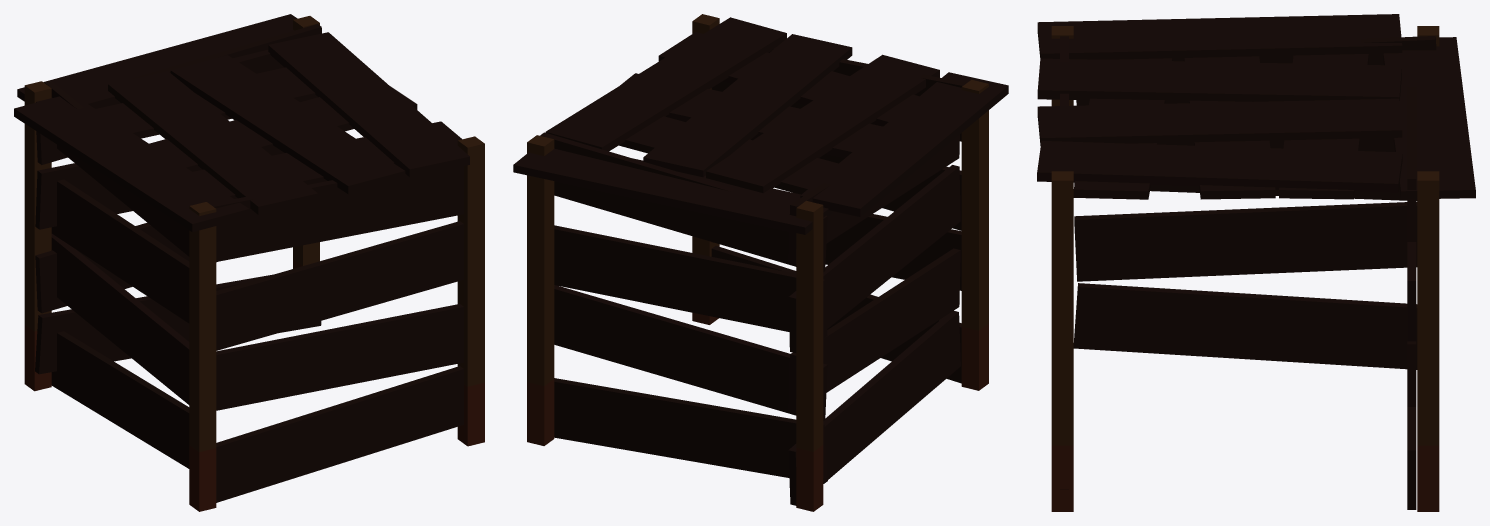
The model's file is Stand4.fbx.
3 views of the same model, side by side, from view 1: azimuth 30°, elevation 25°; view 2: azimuth 150°, elevation 25°; view 3: azimuth 270°, elevation 25° (orthographic). The views are drawn at different scales.
Parts seen in each view (by area): view 1: mergedBlocks; view 2: mergedBlocks; view 3: mergedBlocks.
Boxes of the visible parts, x1,y1,x2,y2 form: mergedBlocks: [14, 14, 484, 511]; mergedBlocks: [513, 14, 1008, 511]; mergedBlocks: [1037, 14, 1475, 511].
Size of the model in its own units: 11 by 10 by 12.
